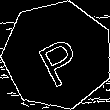P_NW: (29, 24, 86, 86)
